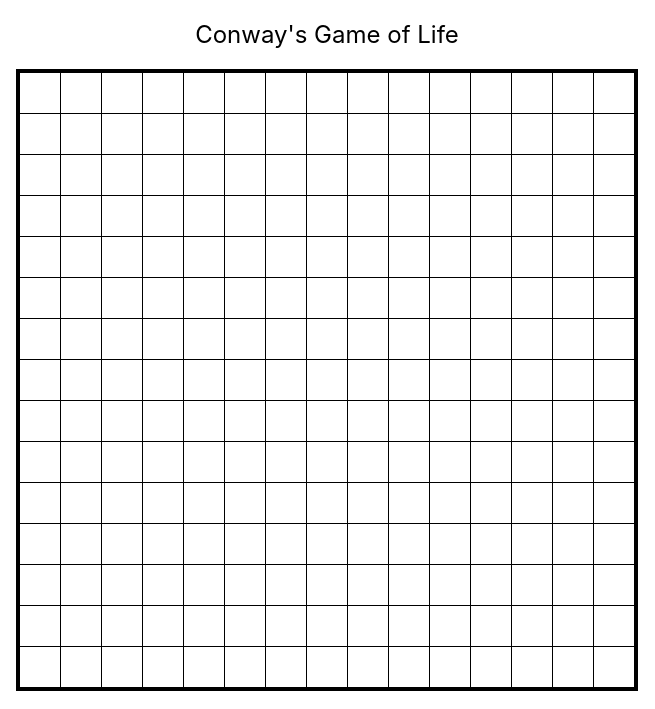
Scenario: advancing the game state updates the state description
Step 1. Click the element with test id "c00" → click(40, 94), box [20,73,61,114]
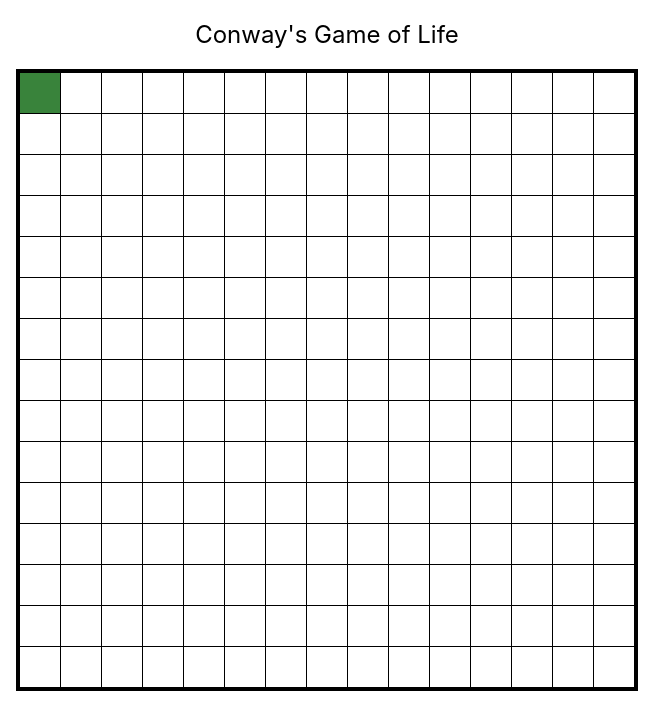
Step 2. Click the element with test id "c01" → click(82, 94), box [61,73,102,114]
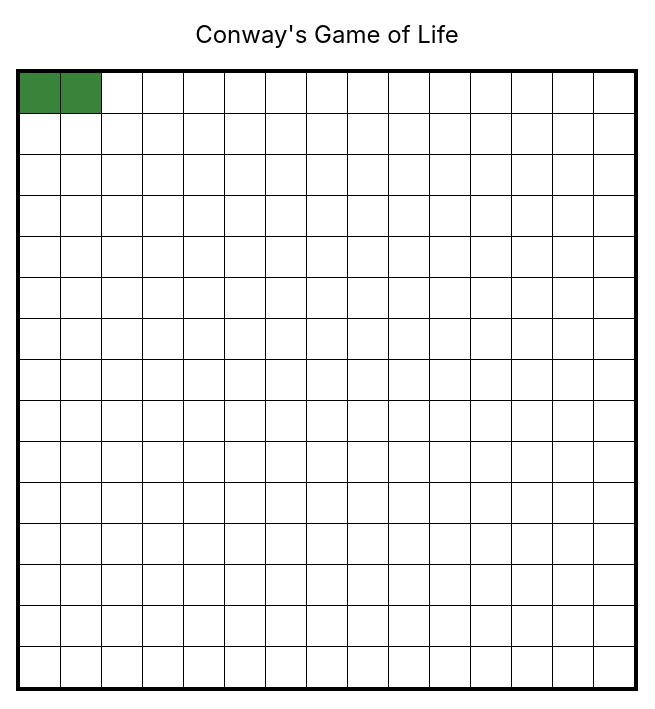
Step 3. Click the element with test id "c10" → click(40, 134), box [20,114,61,155]
(page scrolled)
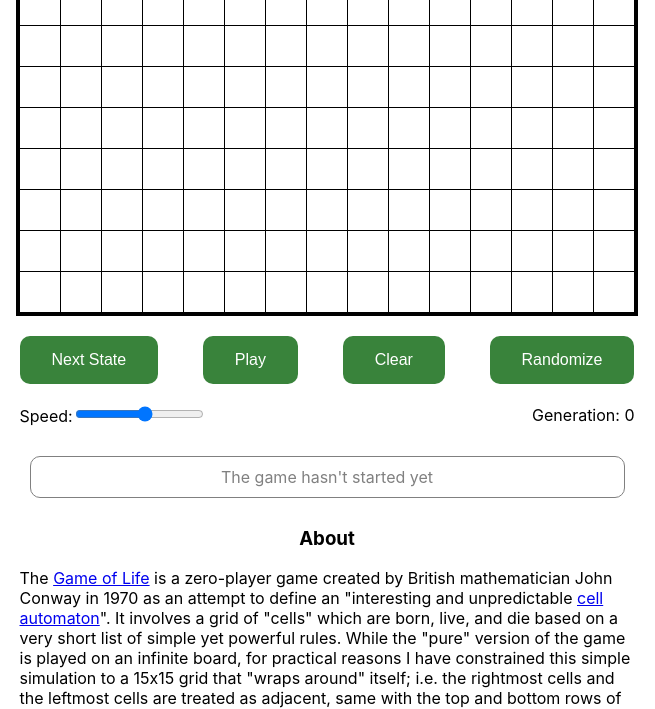
Step 4. Click the button "Next State" → click(89, 360), box [20,336,158,384]
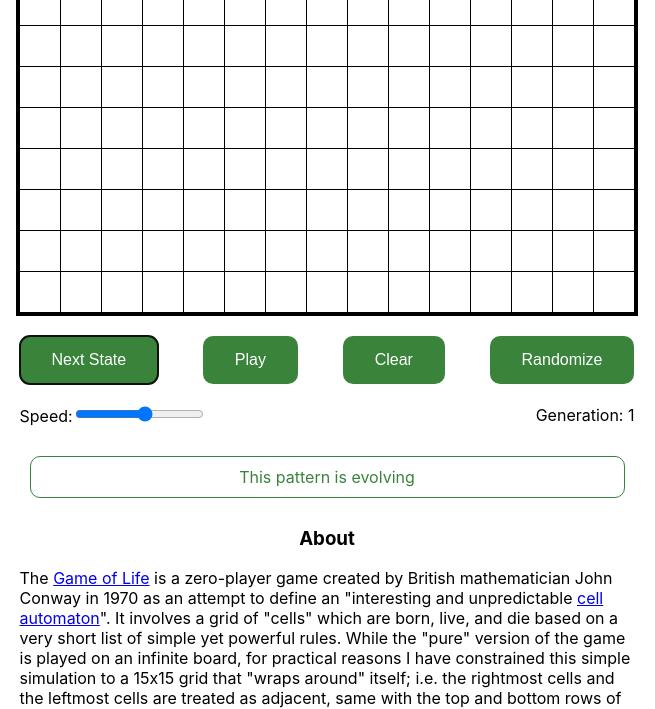
Expected: the text "This pattern is evolving" is shown, [30,456,624,498]
Step 5. Click the button "Next State" → click(89, 360), box [20,336,158,384]
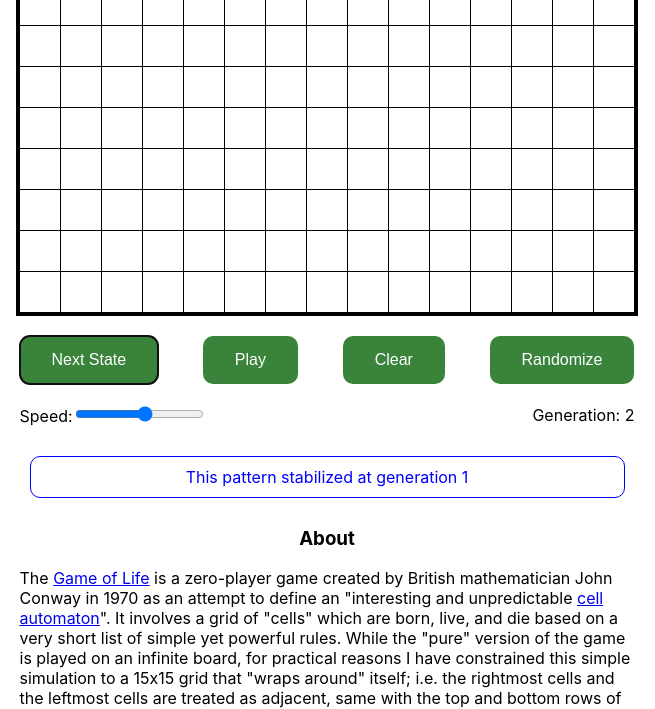
Expected: the text "This pattern stabilized at generation 1" is shown, [30,456,624,498]
Step 6. Click the button "Clear" → click(394, 360), box [343,336,445,384]
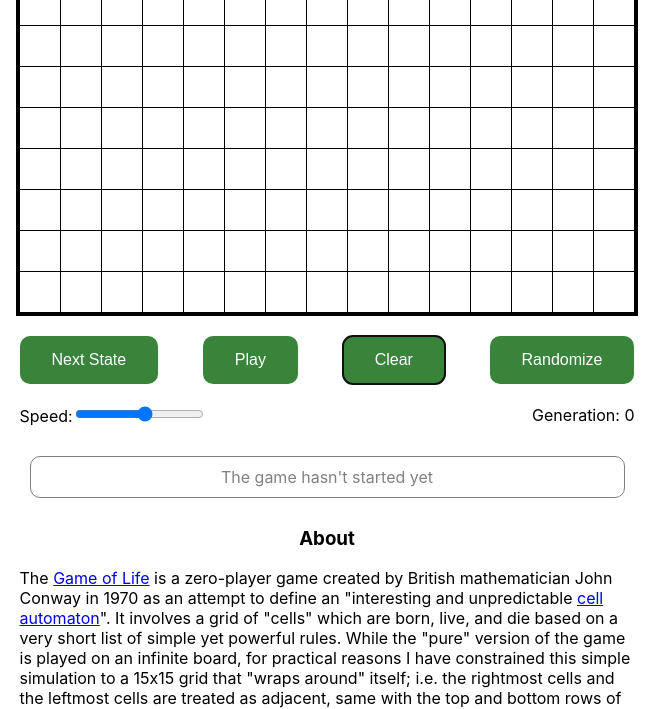
Expected: the text "The game hasn't started yet" is shown, [30,456,624,498]
